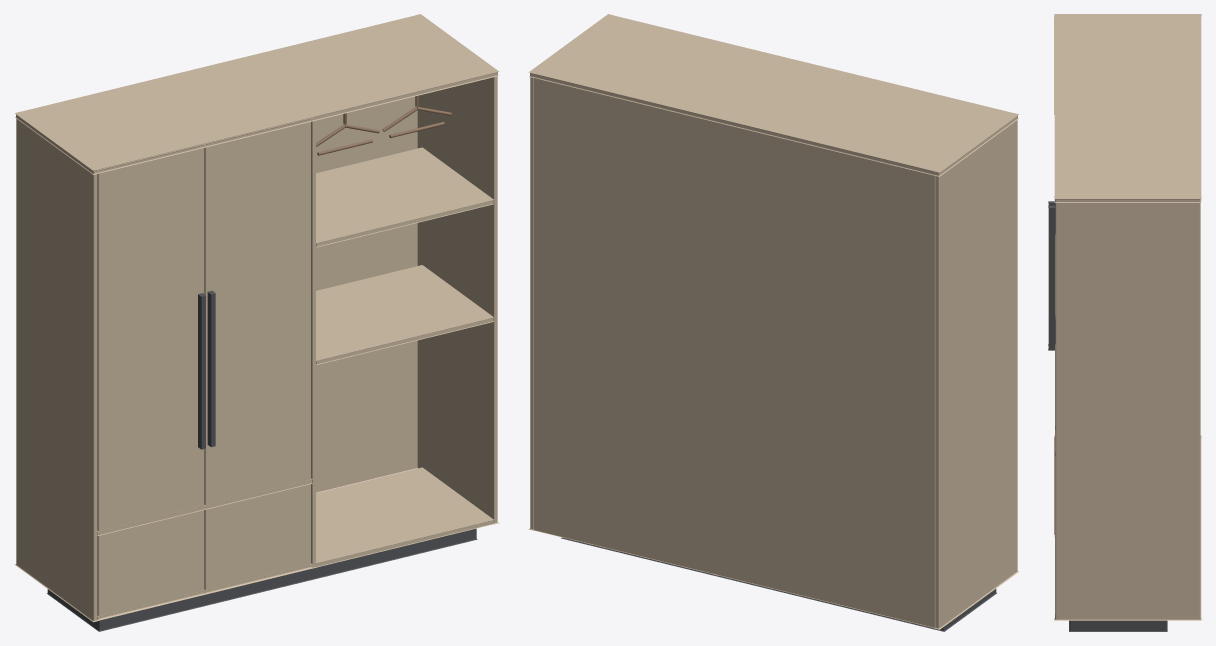
The model's file is modern_closet.glb.
The picture shows the model from 3 angles, left to right: view 1: azimuth 30°, elevation 25°; view 2: azimuth 150°, elevation 25°; view 3: azimuth 270°, elevation 25°; orthographic projection. The views are drawn at different scales.
Parts seen in each view (by area): view 1: EXP_SM_Closet_Door_L, EXP_SM_Closet_Door_R, EXP_SM_Closet_Side_L, EXP_SM_Closet_Top, EXP_SM_Closet_Side_R, EXP_SM_Closet_Back, EXP_SM_Closet_Base, EXP_SM_Closet_Shell_Mid, EXP_SM_Closet_Shell_Top, EXP_SM_Closet_Plinth, EXP_SM_Closet_Divider, EXP_SM_Closet_Handle_R (+2 smaller); view 2: EXP_SM_Closet_Back, EXP_SM_Closet_Side_L, EXP_SM_Closet_Top, EXP_SM_Closet_Side_R, EXP_SM_Closet_Plinth, EXP_SM_Closet_Divider; view 3: EXP_SM_Closet_Side_R, EXP_SM_Closet_Top, EXP_SM_Closet_Plinth, EXP_SM_Closet_Back, EXP_SM_Closet_Handle_R, EXP_SM_Closet_Divider, EXP_SM_Closet_Side_L.
Part boxes in pixels (bbox=[...]): EXP_SM_Closet_Door_L: bbox=[97, 143, 205, 620]; EXP_SM_Closet_Door_R: bbox=[204, 117, 312, 593]; EXP_SM_Closet_Side_L: bbox=[14, 112, 98, 622]; EXP_SM_Closet_Top: bbox=[15, 14, 498, 174]; EXP_SM_Closet_Side_R: bbox=[415, 14, 499, 524]; EXP_SM_Closet_Back: bbox=[19, 15, 417, 493]; EXP_SM_Closet_Base: bbox=[97, 467, 494, 620]; EXP_SM_Closet_Shell_Mid: bbox=[316, 265, 493, 364]; EXP_SM_Closet_Shell_Top: bbox=[316, 147, 493, 247]; EXP_SM_Closet_Plinth: bbox=[47, 528, 477, 631]; EXP_SM_Closet_Divider: bbox=[236, 59, 316, 568]; EXP_SM_Closet_Handle_R: bbox=[207, 290, 215, 447]; EXP_SM_Closet_Back: bbox=[533, 72, 936, 627]; EXP_SM_Closet_Side_L: bbox=[934, 113, 1018, 629]; EXP_SM_Closet_Top: bbox=[529, 15, 1018, 176]; EXP_SM_Closet_Side_R: bbox=[528, 14, 613, 530]; EXP_SM_Closet_Plinth: bbox=[561, 537, 996, 631]; EXP_SM_Closet_Divider: bbox=[713, 59, 797, 575]; EXP_SM_Closet_Side_R: bbox=[1054, 196, 1201, 620]; EXP_SM_Closet_Top: bbox=[1054, 14, 1201, 202]; EXP_SM_Closet_Plinth: bbox=[1069, 620, 1167, 631]; EXP_SM_Closet_Back: bbox=[1197, 16, 1201, 617]; EXP_SM_Closet_Handle_R: bbox=[1048, 205, 1055, 350]; EXP_SM_Closet_Divider: bbox=[1054, 113, 1201, 537]; EXP_SM_Closet_Side_L: bbox=[1054, 14, 1201, 438].
Bounding box in the file's own units: 1.81 × 2 × 0.633.
